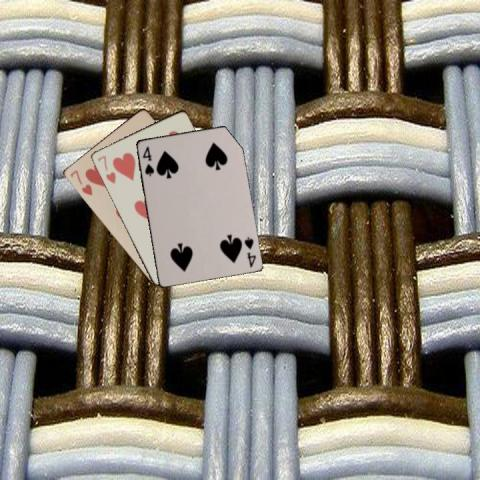4s: (240, 233, 256, 269), (140, 143, 156, 177)
7h: (67, 167, 93, 197), (94, 153, 117, 185)
